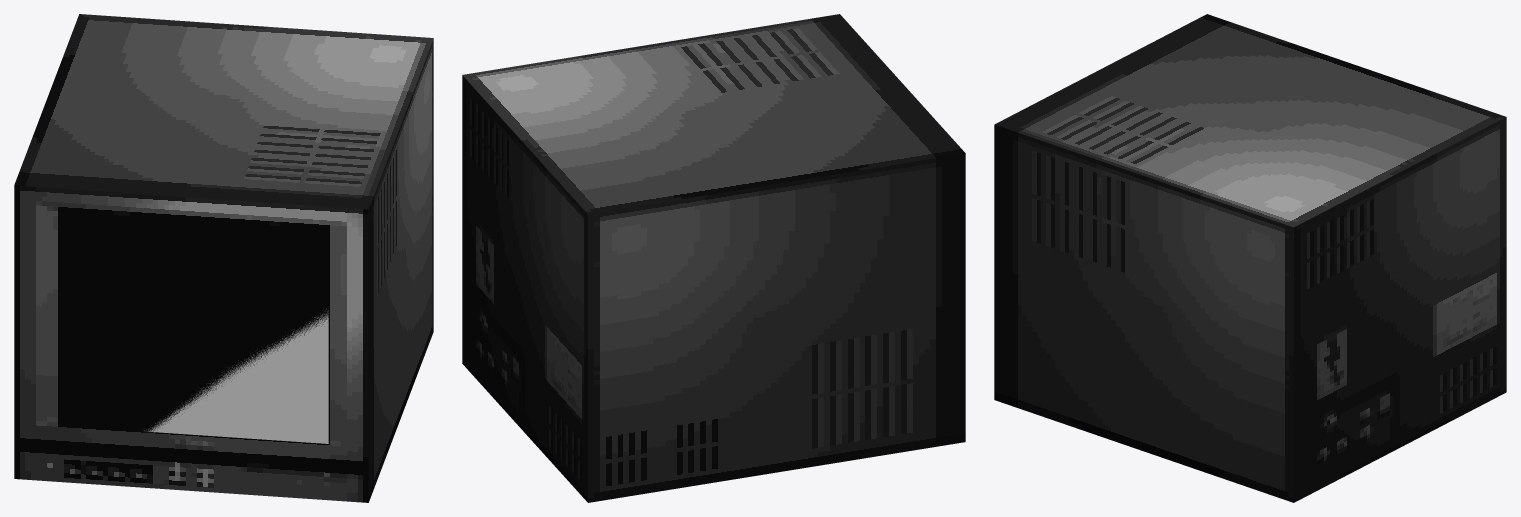
File: primary_130.glb
The picture shows the model from 3 angles, left to right: view 1: azimuth 30°, elevation 25°; view 2: azimuth 150°, elevation 25°; view 3: azimuth 270°, elevation 25°; orthographic projection. The views are drawn at different scales.
Parts seen in each view (by area): view 1: Object; view 2: Object; view 3: Object.
Boxes of the visible parts, box(x1,y1,x2,y2) form: Object: box(14, 14, 433, 502); Object: box(462, 14, 965, 502); Object: box(994, 14, 1506, 502).
Size of the model in its own units: 1.02 by 0.6122 by 1.03.
Materials: 7 (7 with a texture image).
